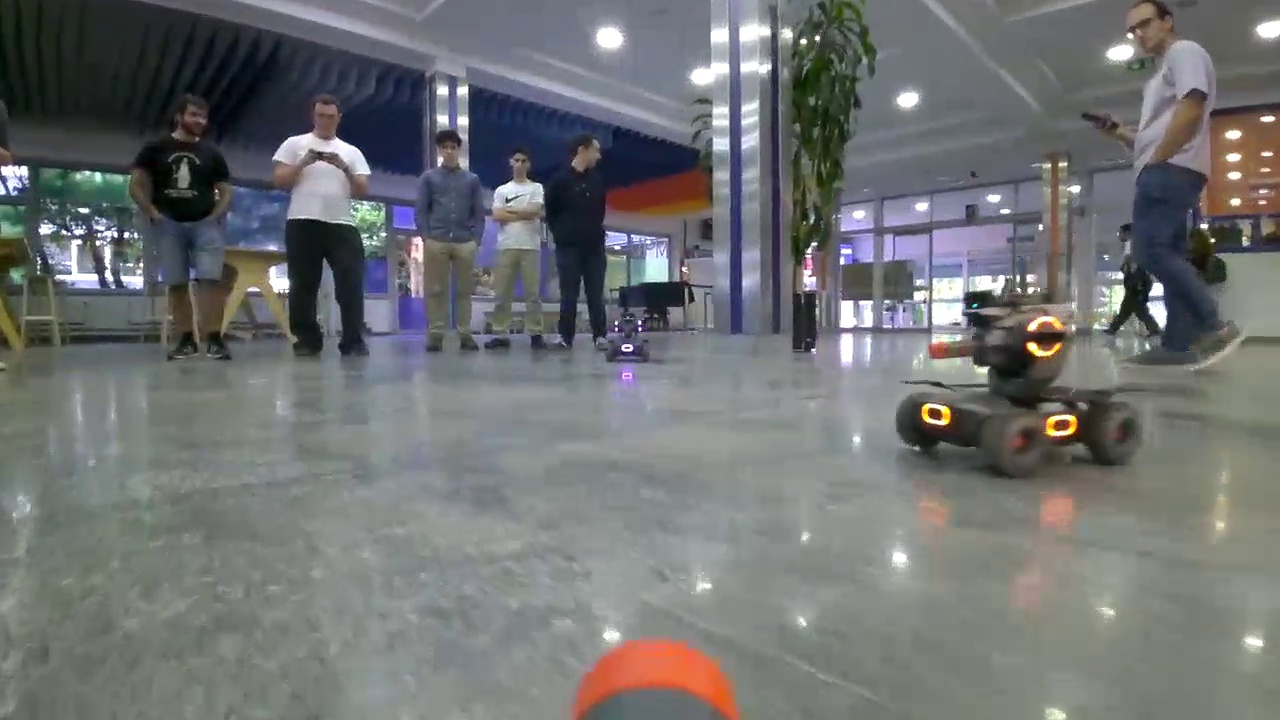robot: (896, 290, 1140, 476), (604, 314, 650, 362)
